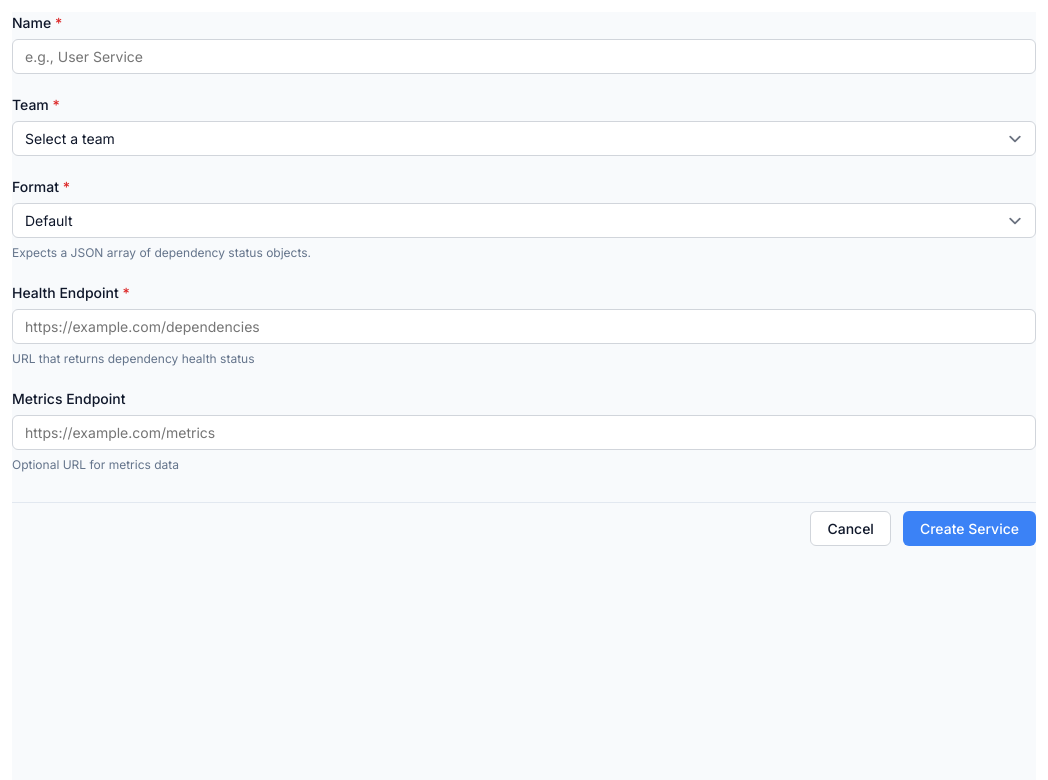
Test: ServiceForm › schema config integration › shows guided form when Custom schema is selected inside schema editor
Select "Custom Schema" in the dropdown labelled "Format *". click: (524, 220)
box: [12,203,1036,238]
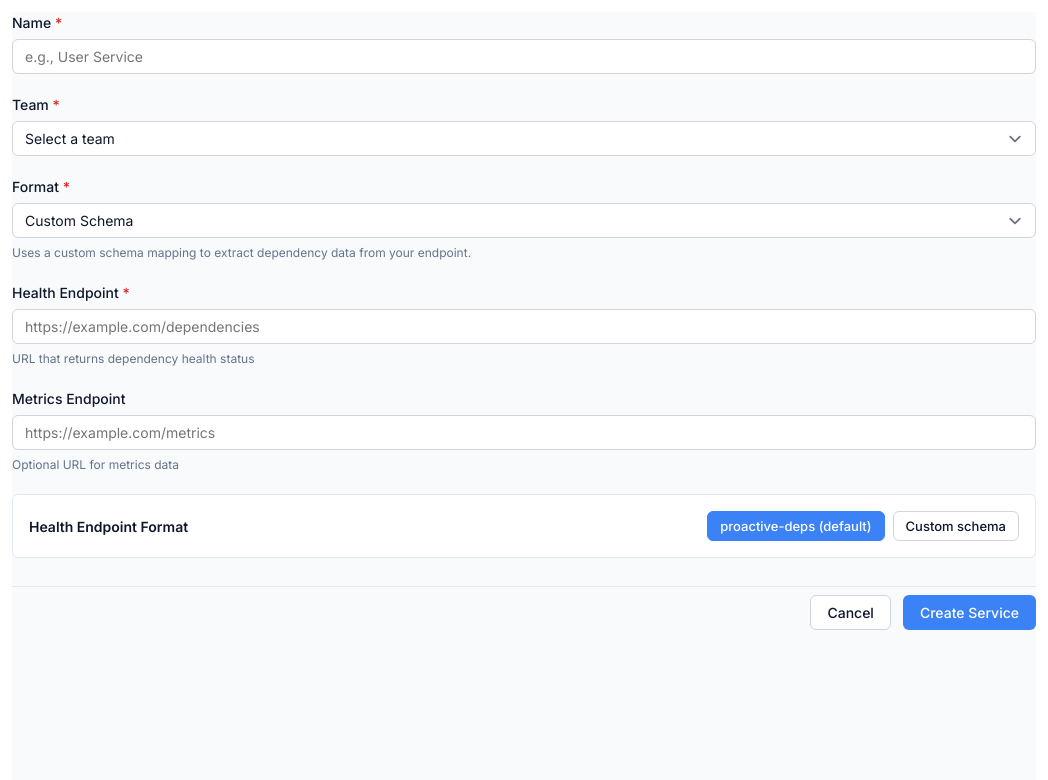
Click the button "Custom schema". click: (956, 526)
box: [893,511,1019,541]
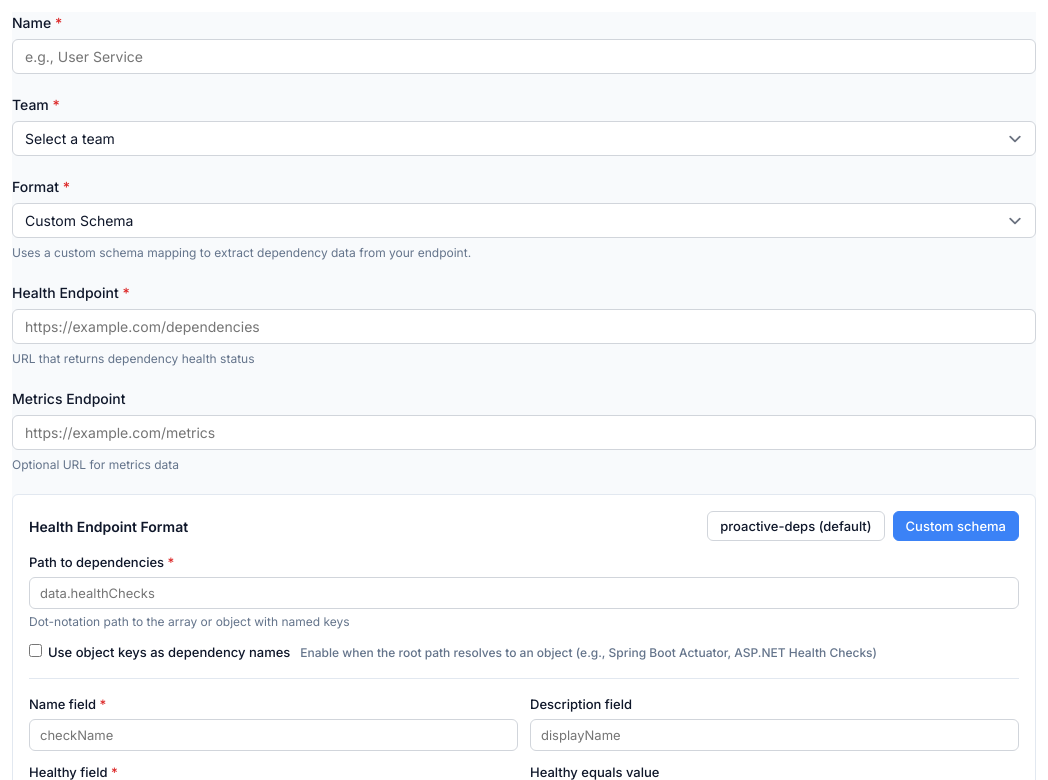
Expected: the field labelled "Path to dependencies *" is shown, [29,576,1019,608]
Expected: the field labelled "Name field *" is shown, [29,718,518,750]
Expected: the field labelled "Description field" is shown, [530,718,1019,750]
